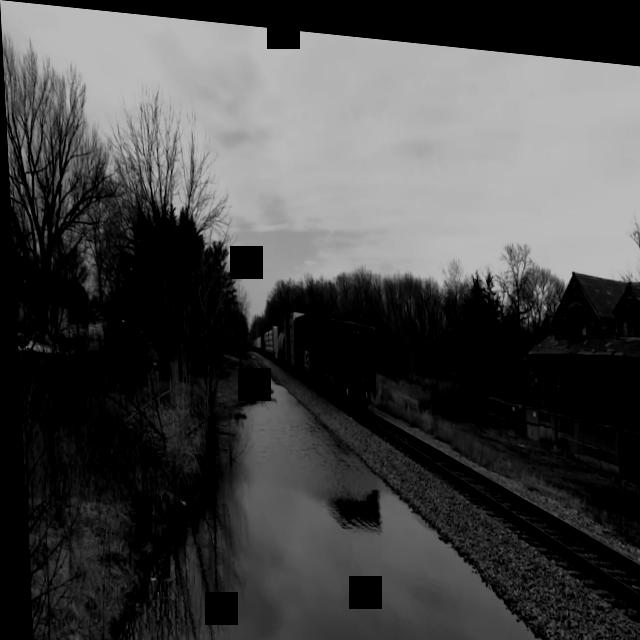gondola: (307, 306, 378, 406)
